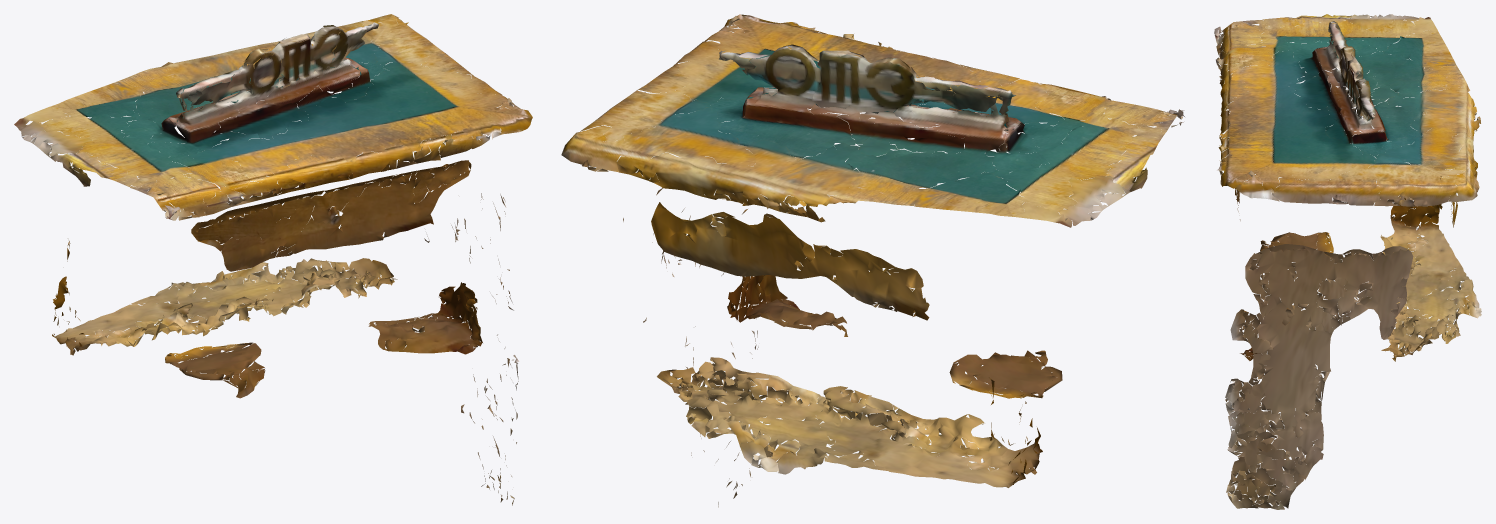
The model's file is otz.glb.
The picture shows the model from 3 angles, left to right: view 1: azimuth 30°, elevation 25°; view 2: azimuth 150°, elevation 25°; view 3: azimuth 270°, elevation 25°; orthographic projection. The views are drawn at different scales.
Parts seen in each view (by area): view 1: Mesh_0.001; view 2: Mesh_0.001; view 3: Mesh_0.001.
Part boxes in pixels (box(x1,y1,x2,y2)): Mesh_0.001: box(14, 14, 532, 505); Mesh_0.001: box(561, 14, 1184, 507); Mesh_0.001: box(1214, 14, 1481, 509).
Bounding box in the file's own units: 0.6936 × 0.7238 × 0.4554.
Materials: 1 (1 with a texture image).
